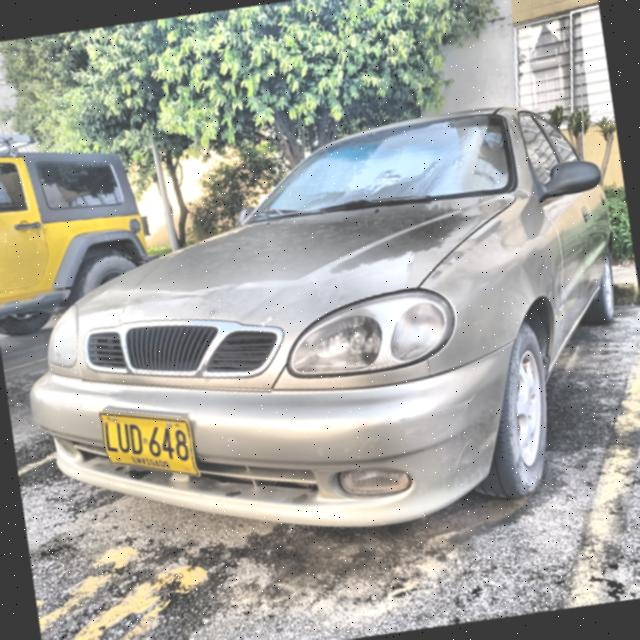4: (161, 427, 177, 460)
6: (147, 425, 162, 458)
8: (173, 428, 190, 462)
D: (128, 423, 144, 455)
L: (103, 422, 119, 453)
U: (115, 422, 132, 454)
